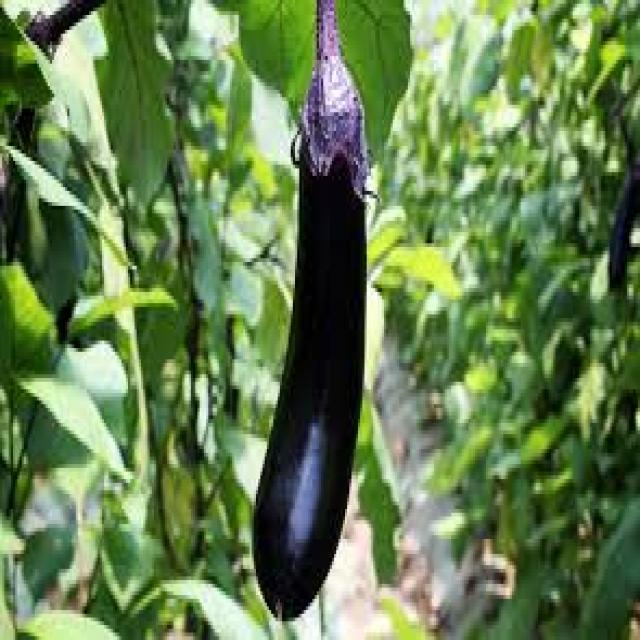eggplant: (253, 0, 367, 619)
